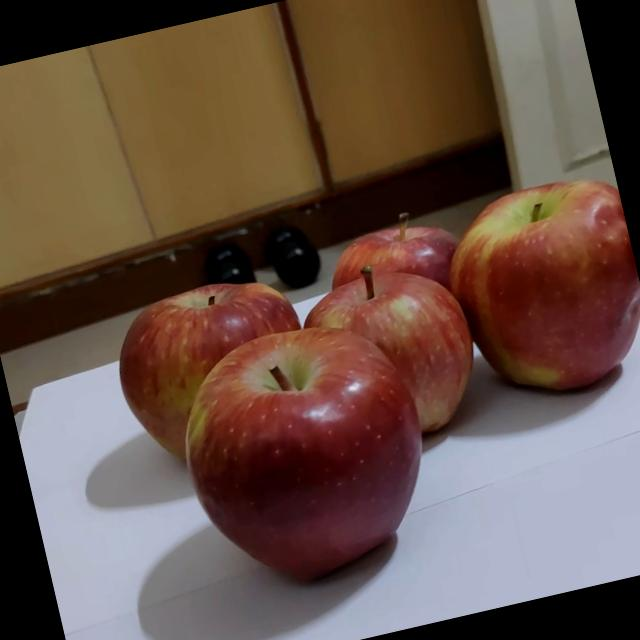apple: (208, 298, 490, 590), (80, 271, 312, 497), (402, 172, 626, 402), (277, 246, 477, 446), (274, 214, 443, 379)
